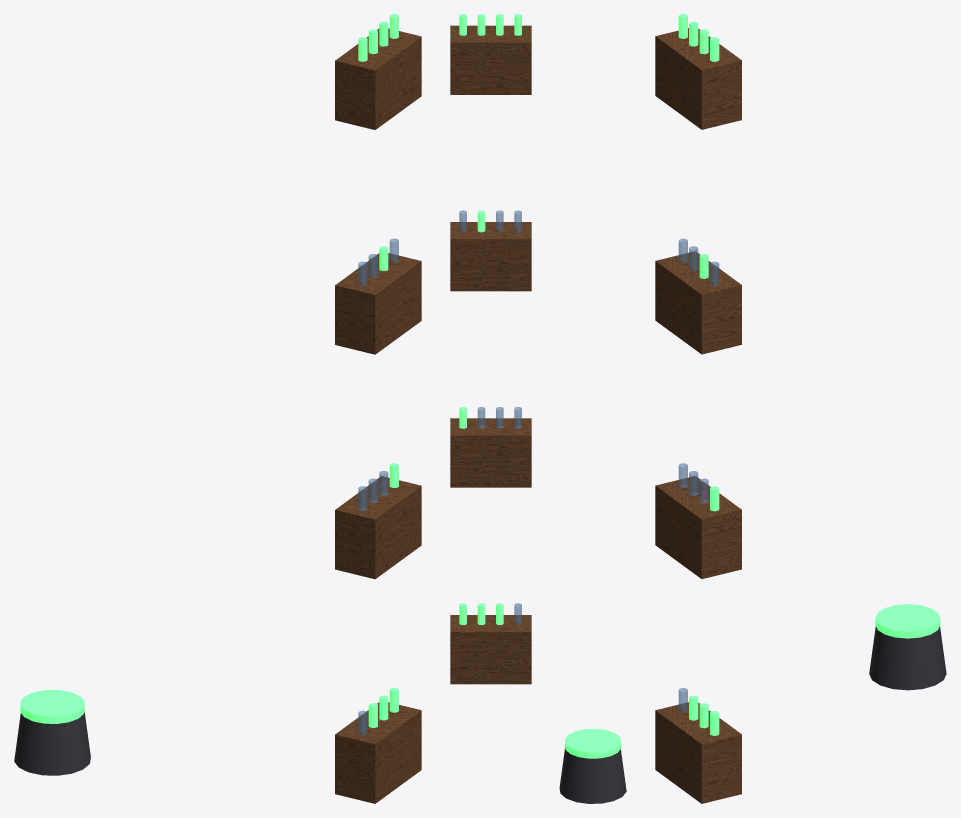
Rendered from i_alchemy_tower.gltf.
3 renders of one model, left to right at view 1: azimuth 30°, elevation 25°; view 2: azimuth 150°, elevation 25°; view 3: azimuth 270°, elevation 25°, orthographic. The views are drawn at different scales.
Visible parts, largest first — view 1: I_alchemy_tower; view 2: I_alchemy_tower; view 3: I_alchemy_tower.
Boxes of the visible parts, x1=… form: I_alchemy_tower: x1=14, y1=14, x2=421, y2=803; I_alchemy_tower: x1=450, y1=14, x2=626, y2=803; I_alchemy_tower: x1=655, y1=14, x2=946, y2=803.
Size of the model in its own units: 4.47 by 10.75 by 3.76.
4 materials, 1 textured.
